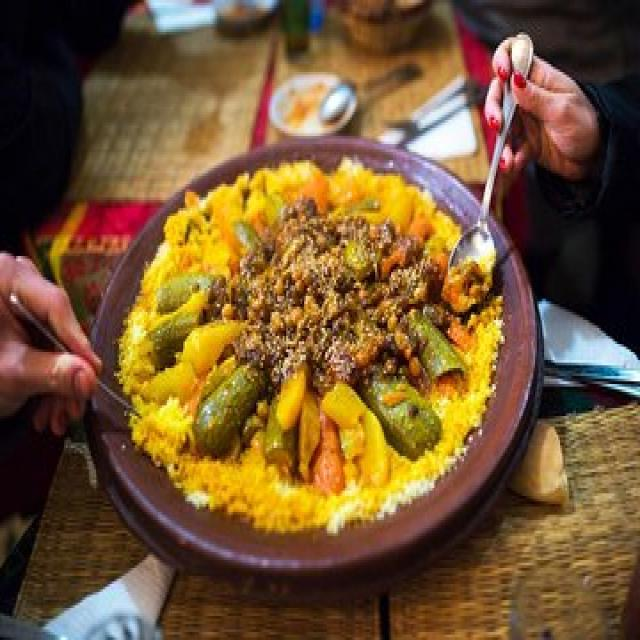Couscous: (90, 137, 540, 570)
